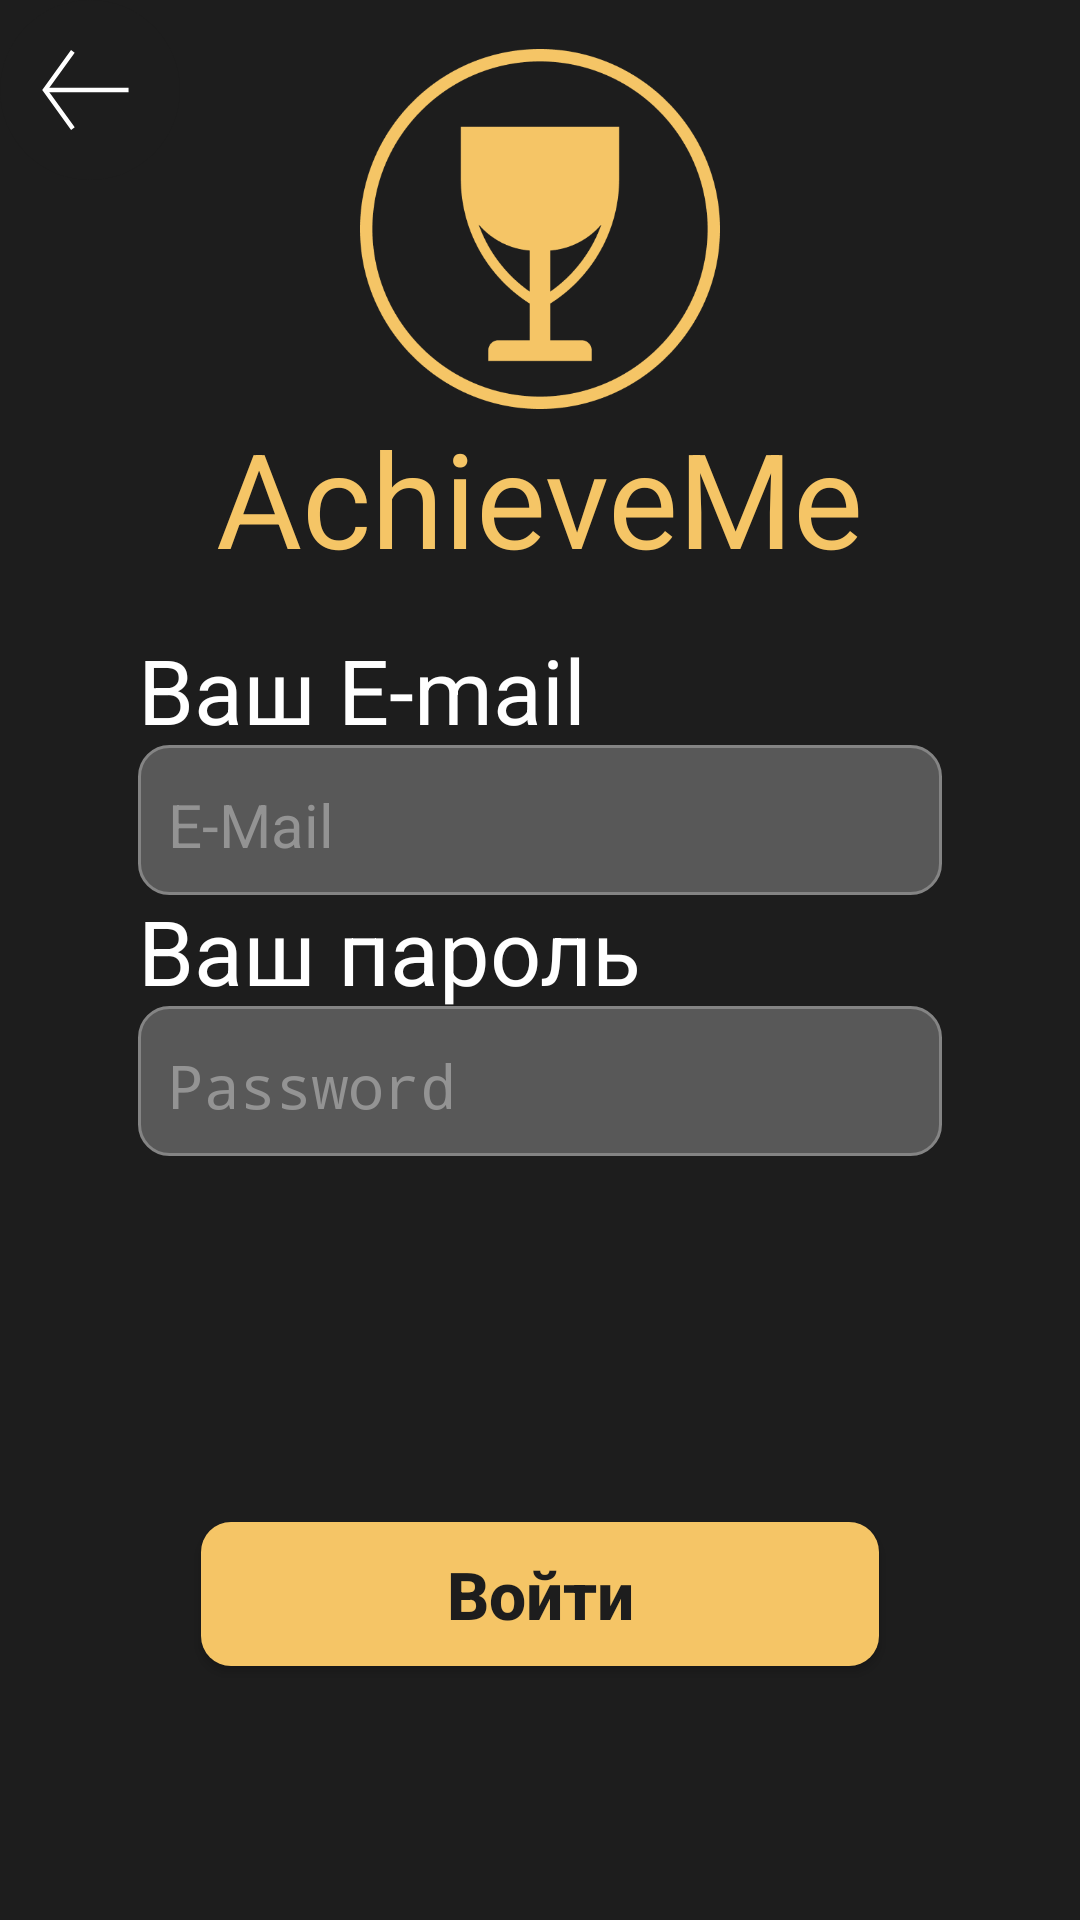

Icons on this 1080x1920 Android screen, each with the point to tap as point (x, y):
backarroybutton: point (85, 90)
